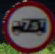Heavy Vehicles: (3, 4, 49, 43)
